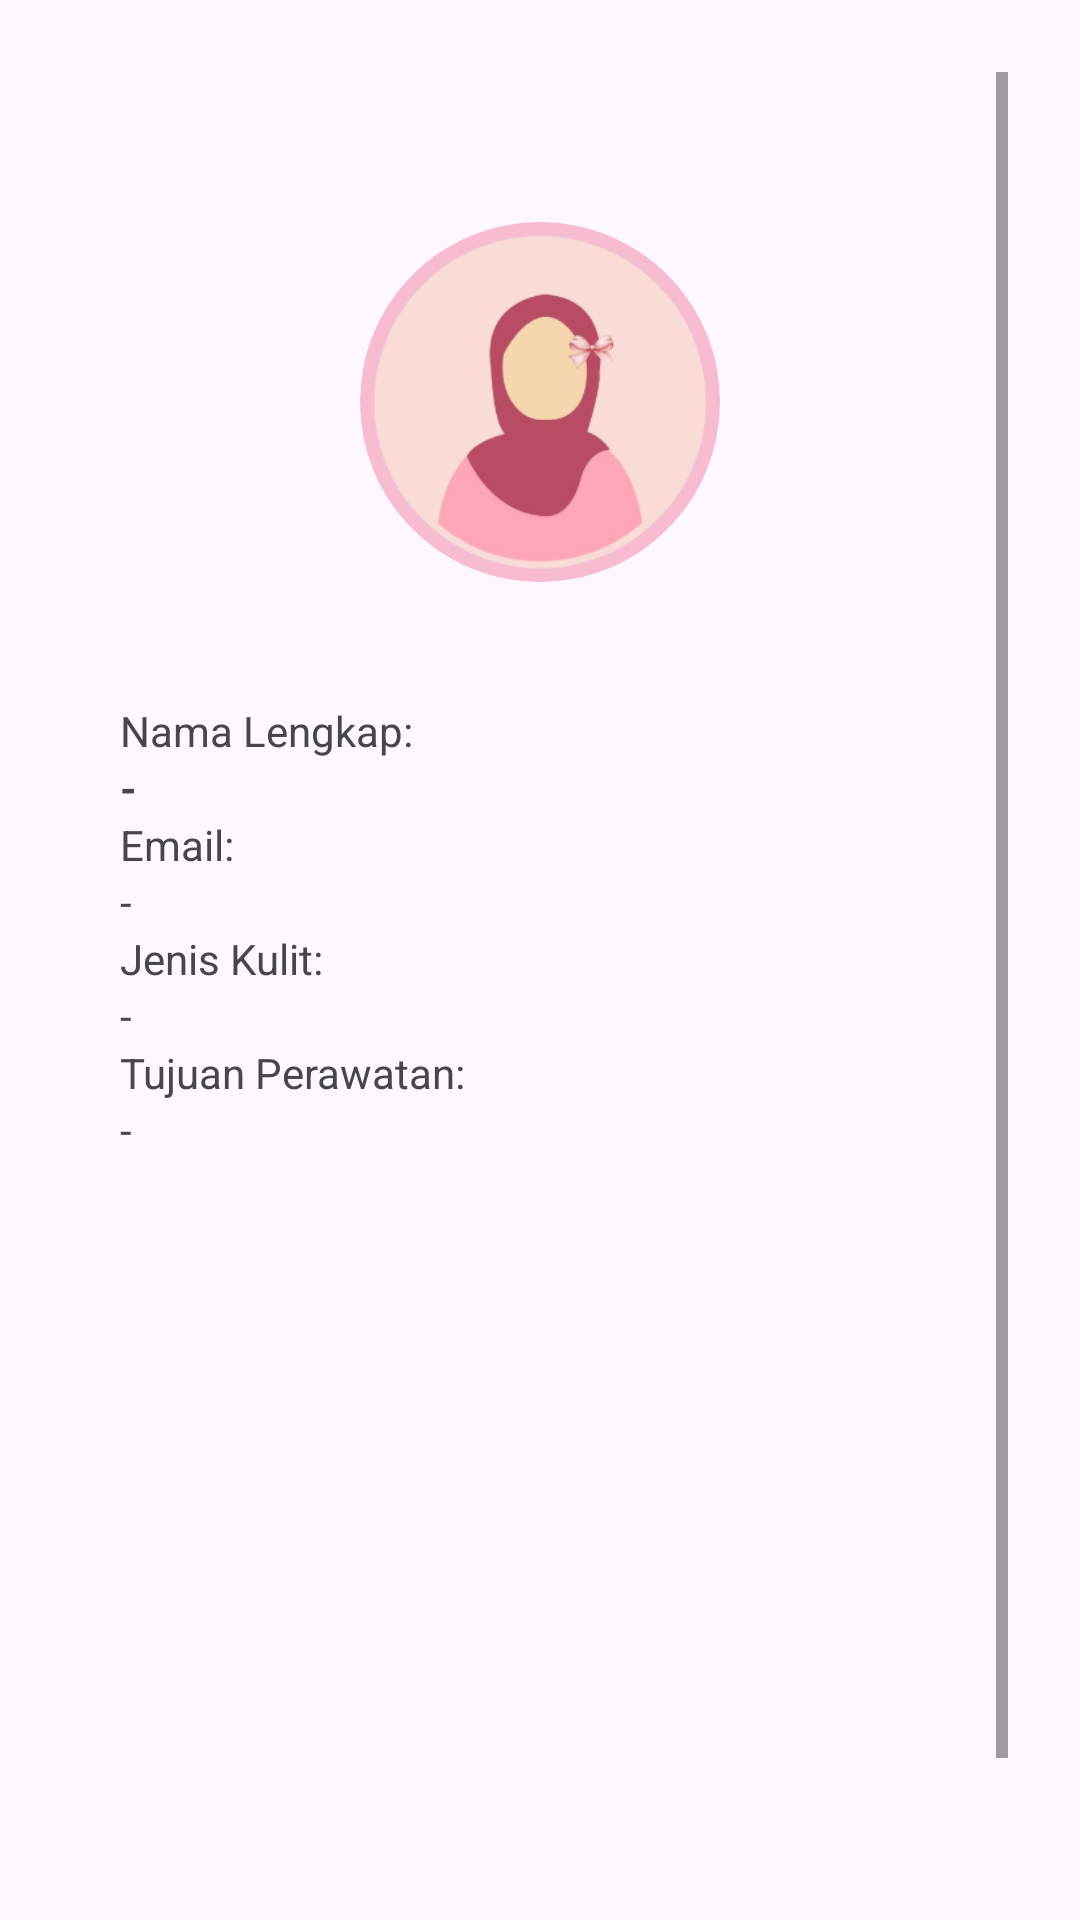

Icons on this 1080 × 1920 Android screen, each with its box as box=[x1, y1, x2, y2]:
pinkprofile: box=[360, 222, 720, 582]
